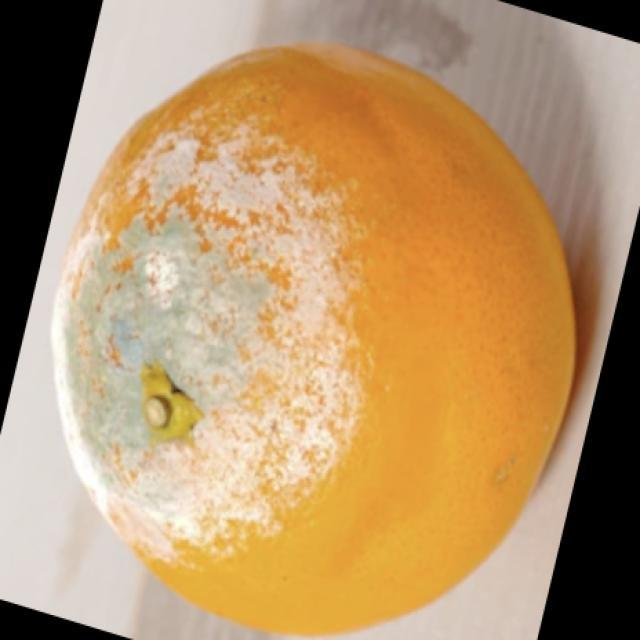sedikit-busuk: (56, 46, 572, 632), (60, 170, 356, 548)
